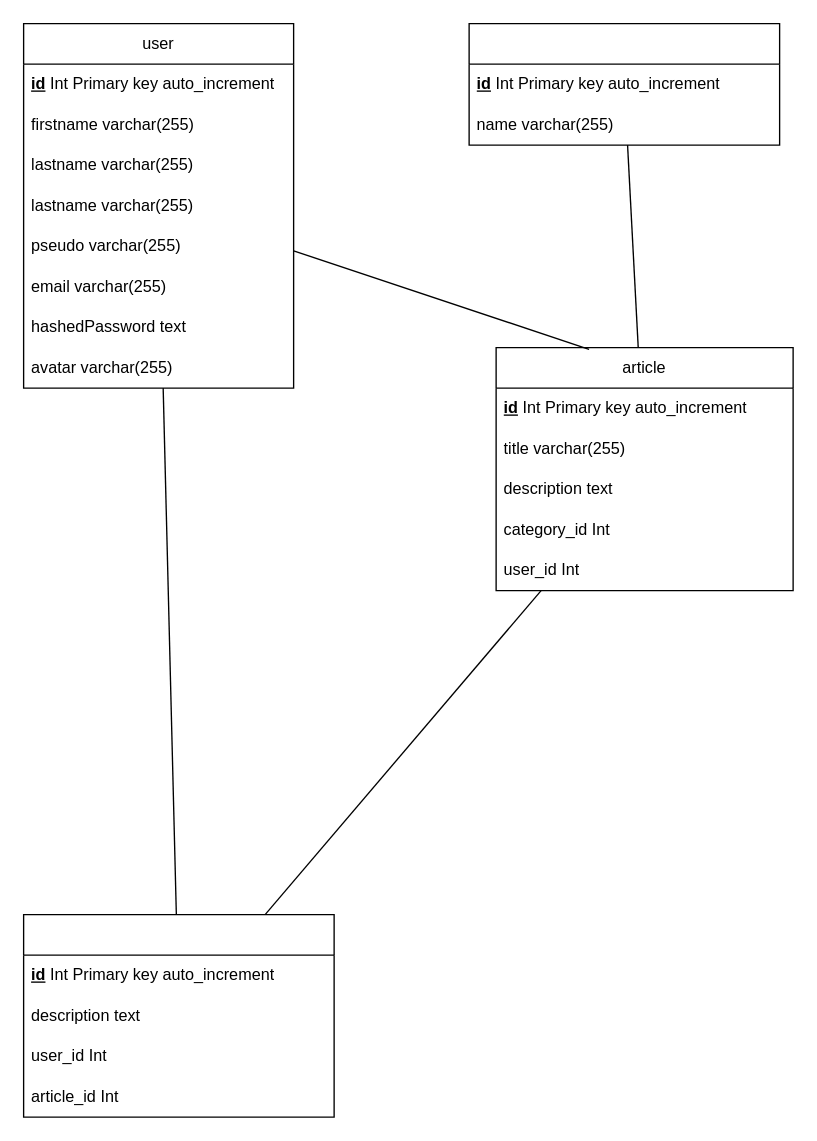
This 817x1141 diagram has some shape labels left out. The shapes that lost their labels are listed below. From the top down, each one's box as (x1, y1, x2, y2) in pixels, then its label:
(468, 22, 780, 145): category
(22, 913, 334, 1117): comment
